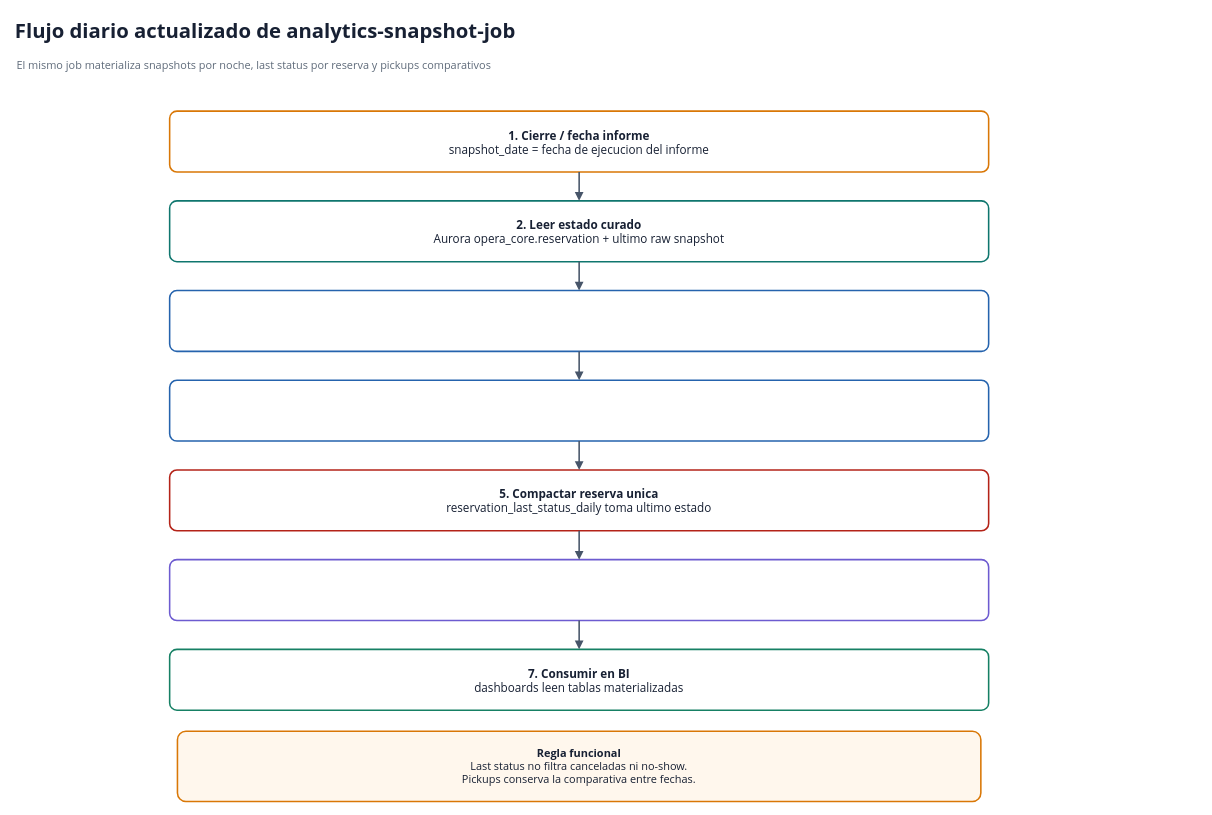
Some shapes in this 1212 by 815 pixel diagram are drawn without their labels. The box of each missing label's shape, as (x1, y1, x2, y2) in pixels:
3. Expandir por estancia una fila por reserva y stay_date futura: (168, 289, 989, 352)
4. Guardar snapshot diario reservation_daily_snapshot estable: (168, 379, 989, 441)
6. Calcular pickups pickup_metric compara 1/3/7/15 dias: (168, 558, 989, 621)
